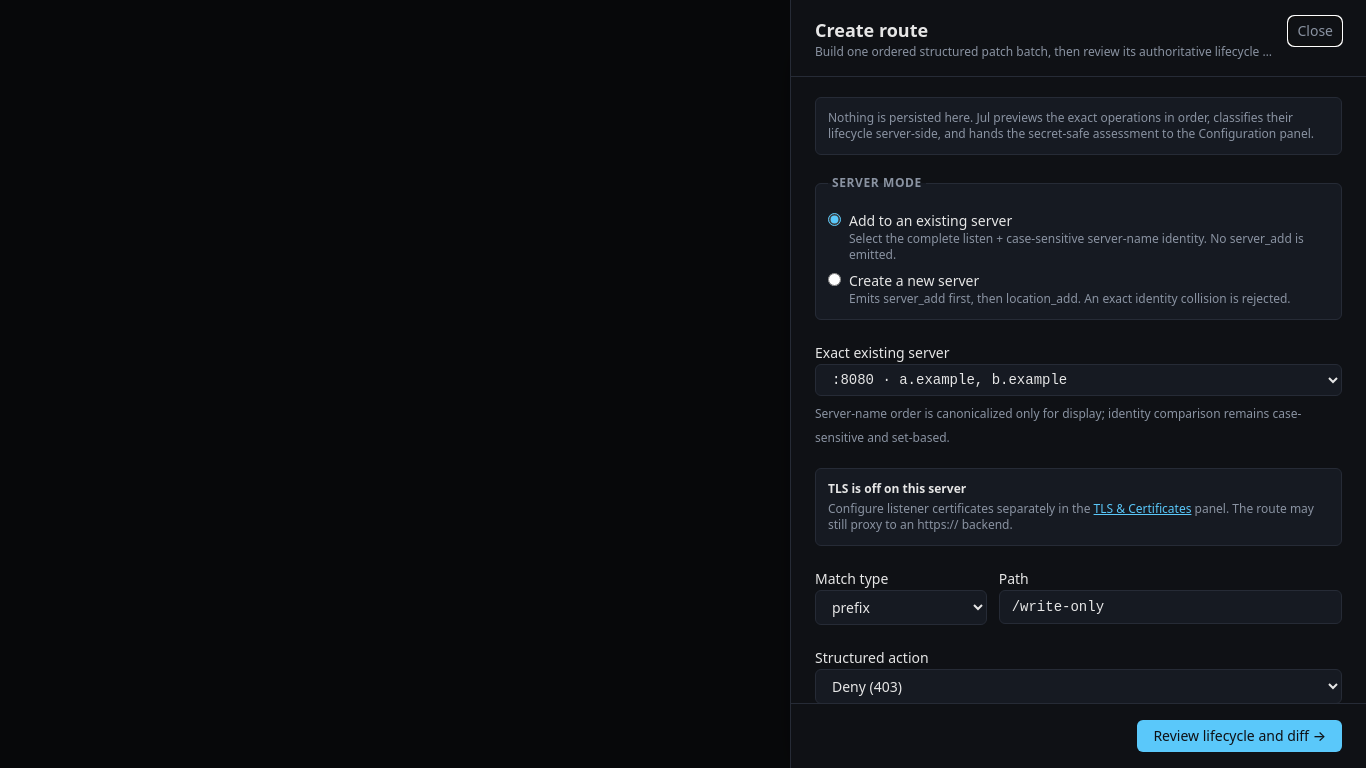
it: RouteEditor ordered batch creation › explains that config:write alone cannot authorize comparison previews
Click the button "Review lifecycle and diff →" at (1240, 736), box [1137, 720, 1342, 752]
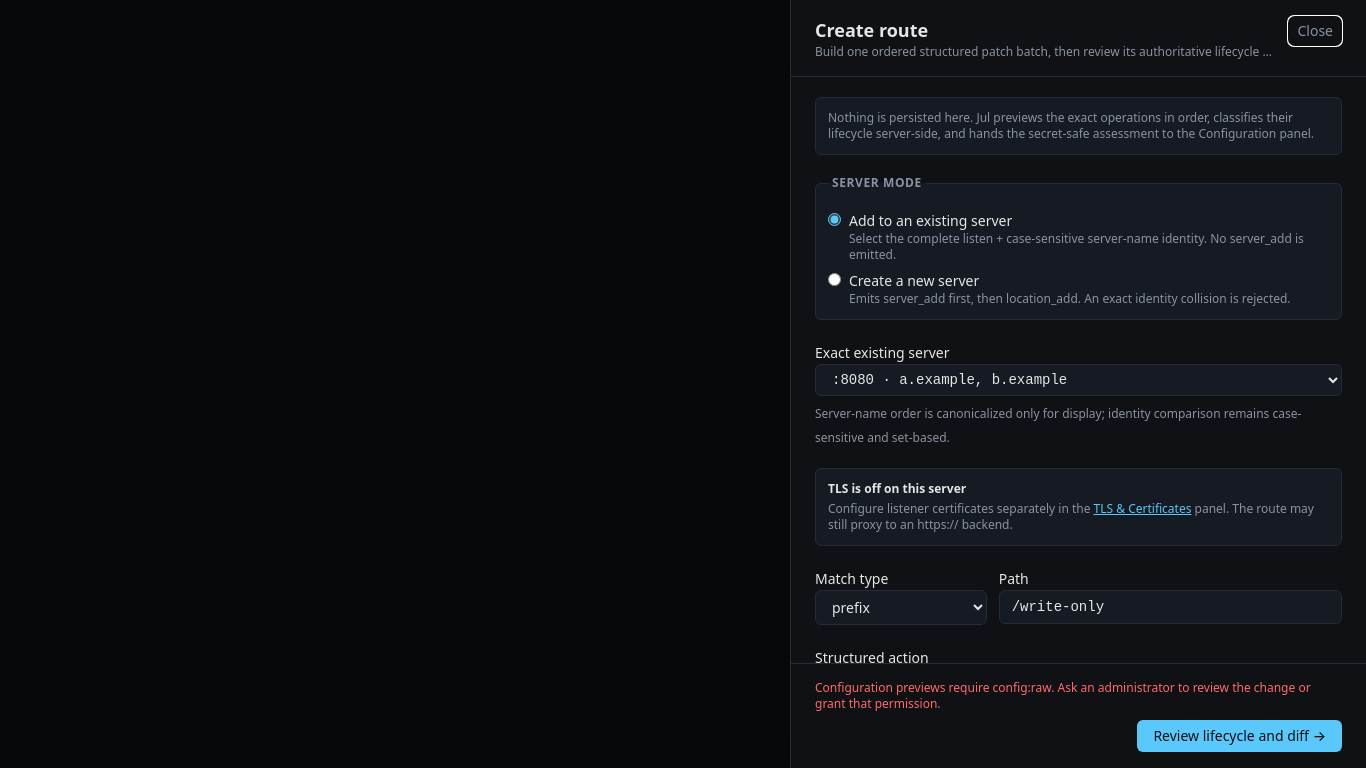
Result: the text "Configuration previews require config:raw" is shown at [815, 679, 1311, 712]
